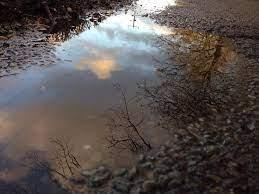Stagnant water: (1, 0, 226, 185)
